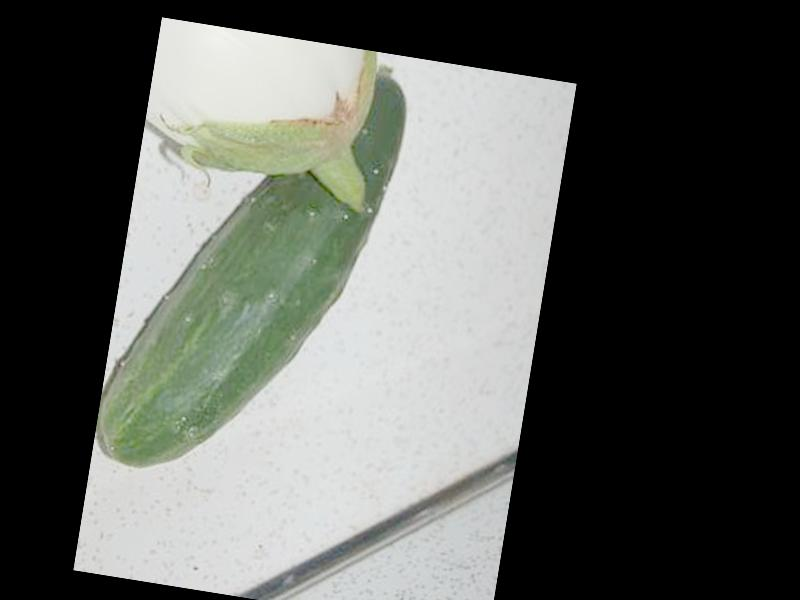Cucumber: (90, 29, 412, 499)
